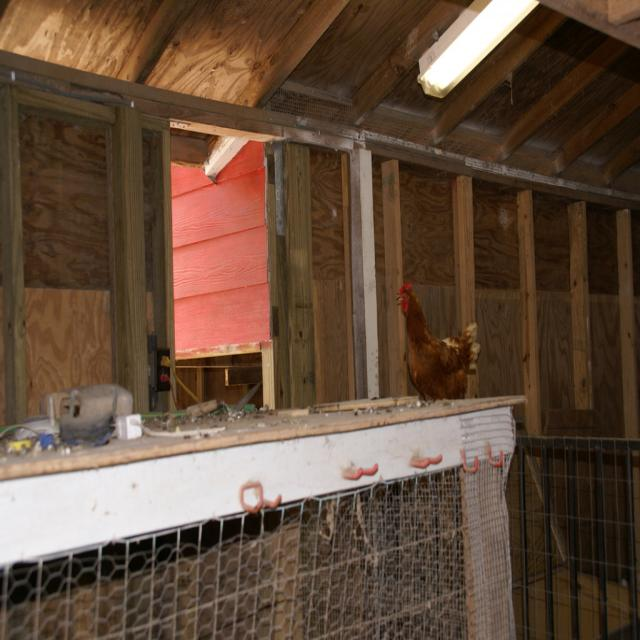Chicken: (396, 281, 482, 400)
